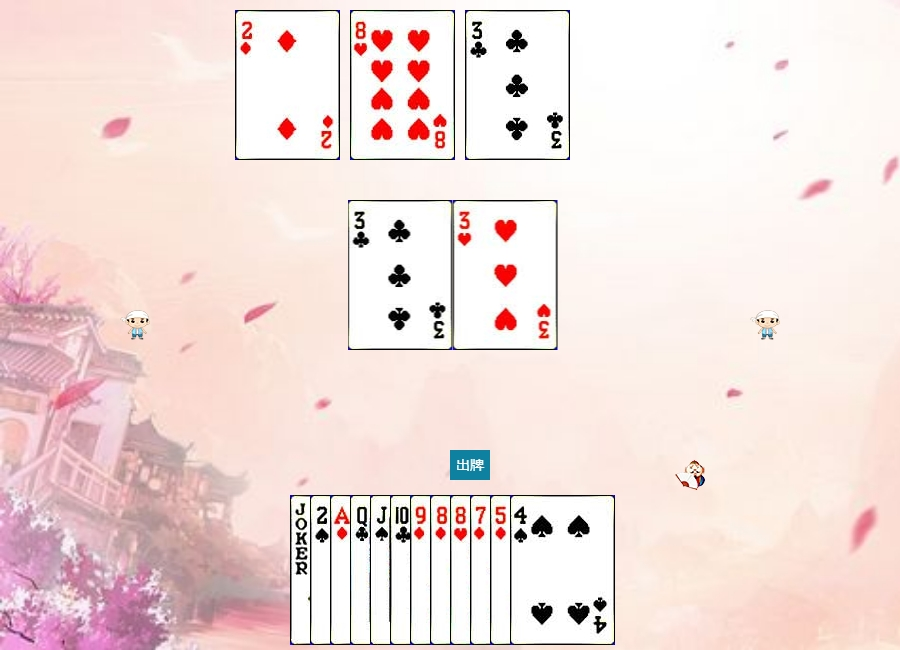10~2: (390, 495, 495, 645)
11~4: (370, 495, 475, 645)
12~2: (350, 495, 455, 645)
14~1: (330, 495, 435, 645)
15~1: (235, 10, 340, 160)
15~4: (310, 495, 415, 645)
17~3: (290, 495, 395, 645)
3~2: (465, 10, 570, 160), (348, 200, 453, 350)
3~3: (453, 200, 558, 350)
4~4: (510, 495, 615, 645)
5~1: (490, 495, 595, 645)
7~1: (470, 495, 575, 645)
8~1: (430, 495, 535, 645)
8~3: (350, 10, 455, 160), (450, 495, 555, 645)
9~1: (410, 495, 515, 645)
